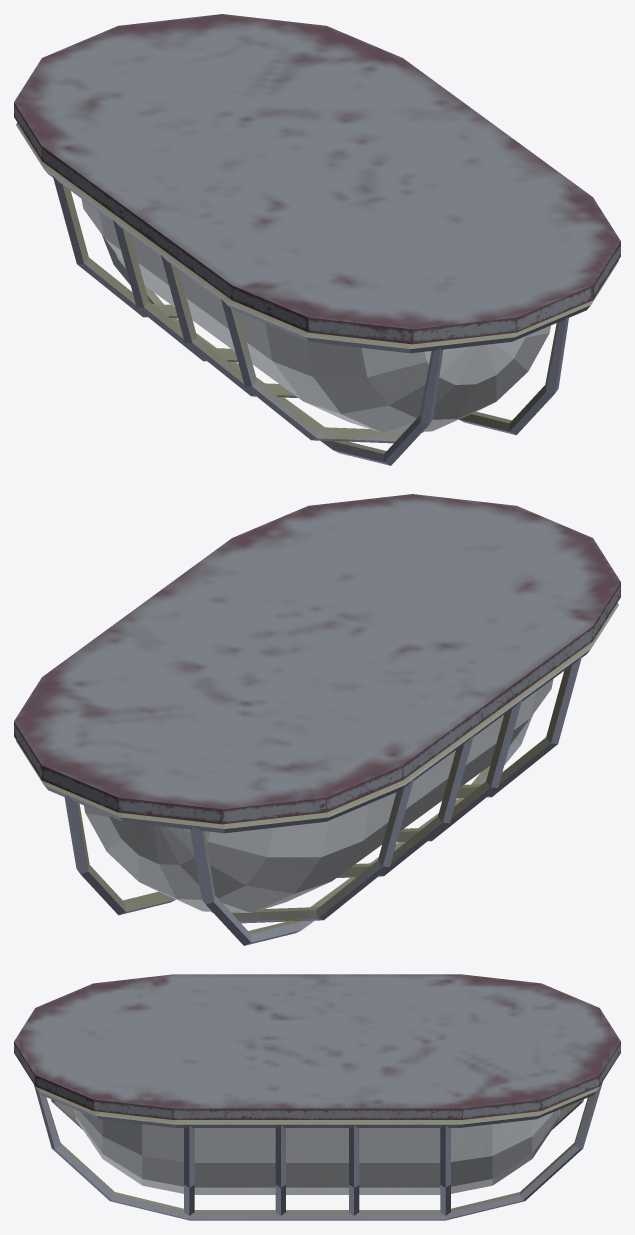
The model's file is bunker lamp 2.obj.
The picture shows the model from 3 angles, top to bottom: view 1: azimuth 30°, elevation 25°; view 2: azimuth 150°, elevation 25°; view 3: azimuth 270°, elevation 25°; orthographic projection. The views are drawn at different scales.
Visible parts, largest first — view 1: Bunker_lamp_2_Sphere.002; view 2: Bunker_lamp_2_Sphere.002; view 3: Bunker_lamp_2_Sphere.002.
Boxes of the visible parts, bbox=[...] form: Bunker_lamp_2_Sphere.002: bbox=[14, 14, 620, 465]; Bunker_lamp_2_Sphere.002: bbox=[14, 494, 620, 945]; Bunker_lamp_2_Sphere.002: bbox=[14, 974, 620, 1220].
Size of the model in its own units: 0.1364 by 0.0758 by 0.2604.
